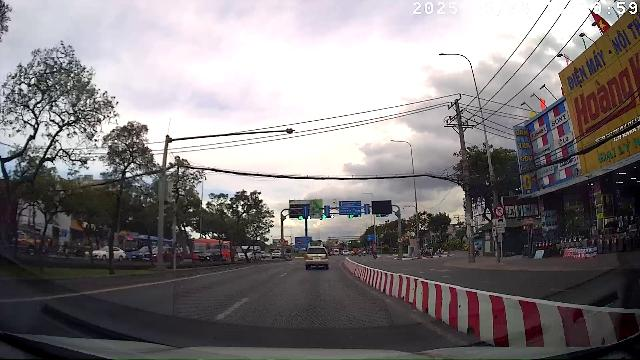123b-cam-re-phai: (494, 205, 505, 217)
